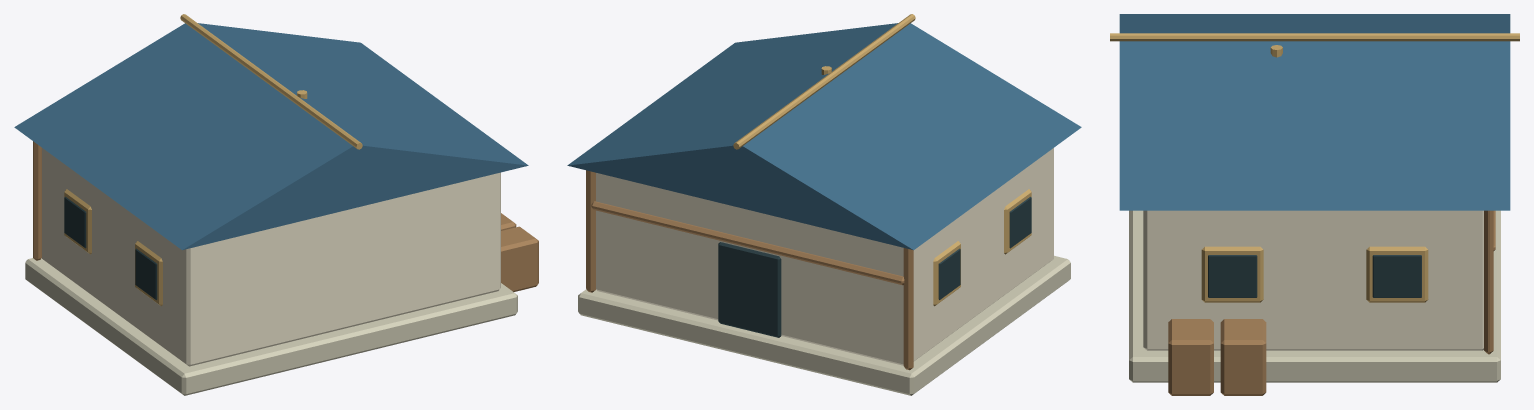
Rendered from level_02.glb.
3 renders of one model, left to right at view 1: azimuth 30°, elevation 25°; view 2: azimuth 150°, elevation 25°; view 3: azimuth 270°, elevation 25°, orthographic. The views are drawn at different scales.
Visible parts, largest first — view 1: warehouse — level 02; view 2: warehouse — level 02; view 3: warehouse — level 02.
Boxes of the visible parts, box(x1,y1,x2,y2) form: warehouse — level 02: box(14, 14, 538, 395); warehouse — level 02: box(567, 14, 1081, 395); warehouse — level 02: box(1110, 14, 1519, 395).
Bounding box in the file's own units: 5.34 × 2.96 × 4.3.
